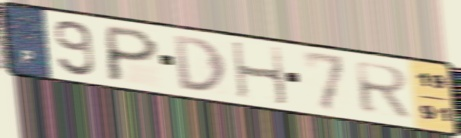7: (300, 48, 347, 114)
9: (52, 19, 97, 77)
D: (170, 32, 230, 94)
H: (228, 39, 291, 108)
P: (104, 23, 162, 85)
R: (351, 59, 415, 120)
